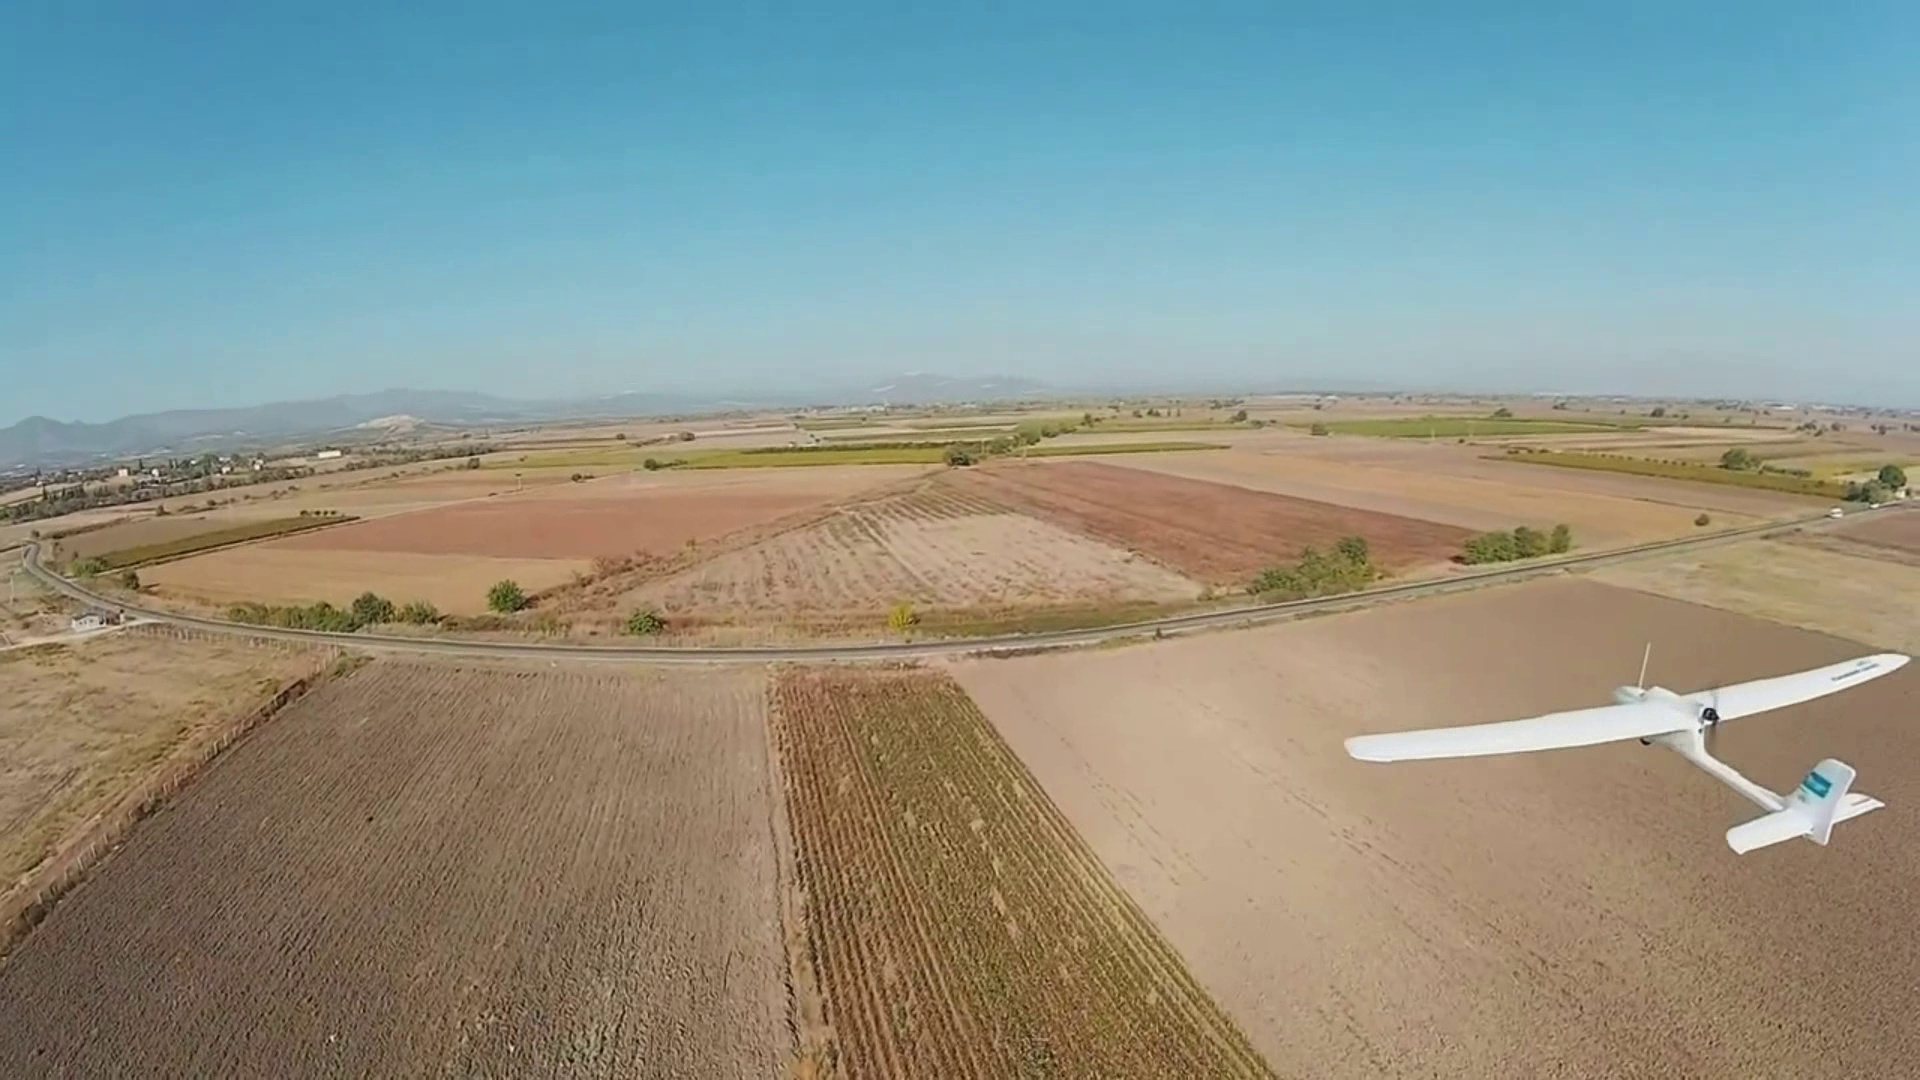airplane: (1340, 640, 1916, 856)
